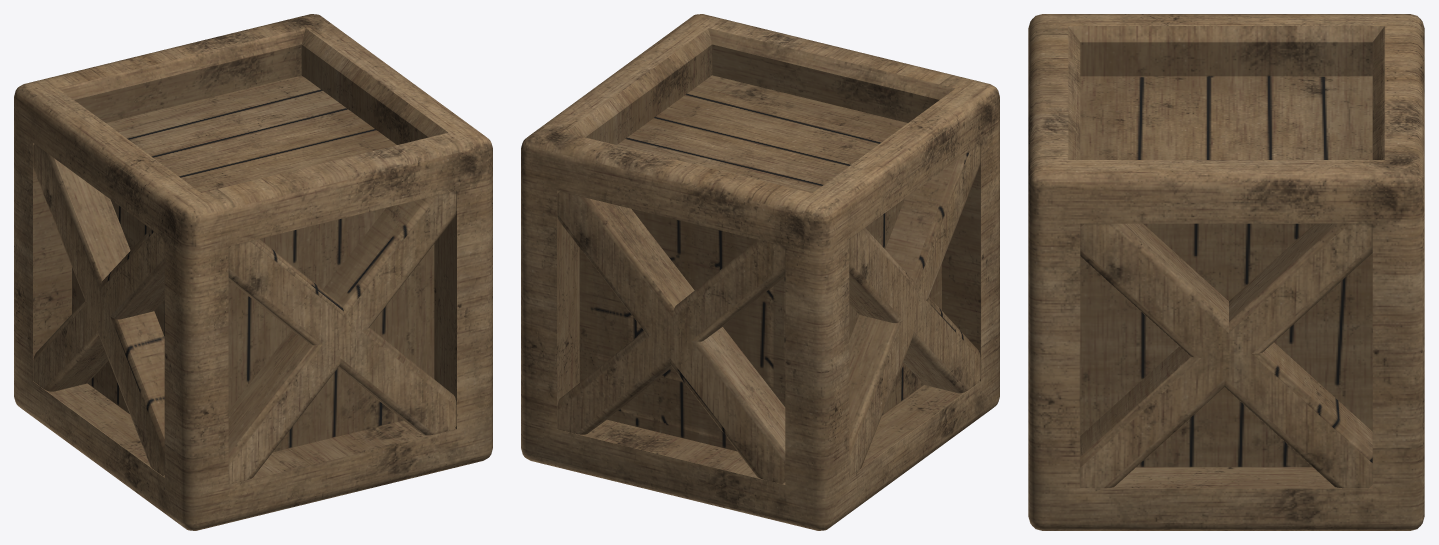
The model's file is crate_wooden_final.fbx.
3 views of the same model, side by side, from view 1: azimuth 30°, elevation 25°; view 2: azimuth 150°, elevation 25°; view 3: azimuth 270°, elevation 25° (orthographic). The views are drawn at different scales.
Visible parts, largest first — view 1: crate; view 2: crate; view 3: crate.
Part boxes in pixels (x1,y1,x2,y2): crate: (14, 14, 492, 530); crate: (521, 14, 999, 530); crate: (1028, 14, 1424, 530).
Bounding box in the file's own units: 208 × 208 × 208.
